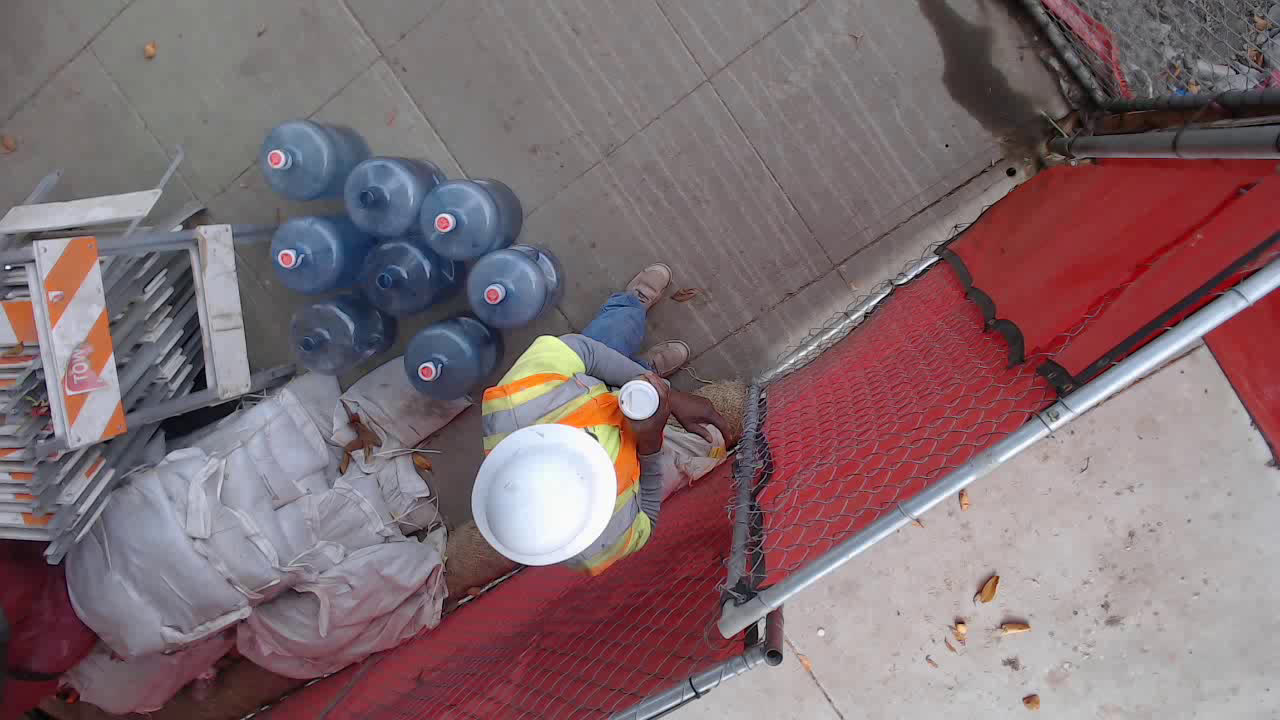hardhat: (470, 422, 617, 566)
safetyvest: (485, 336, 651, 581)
